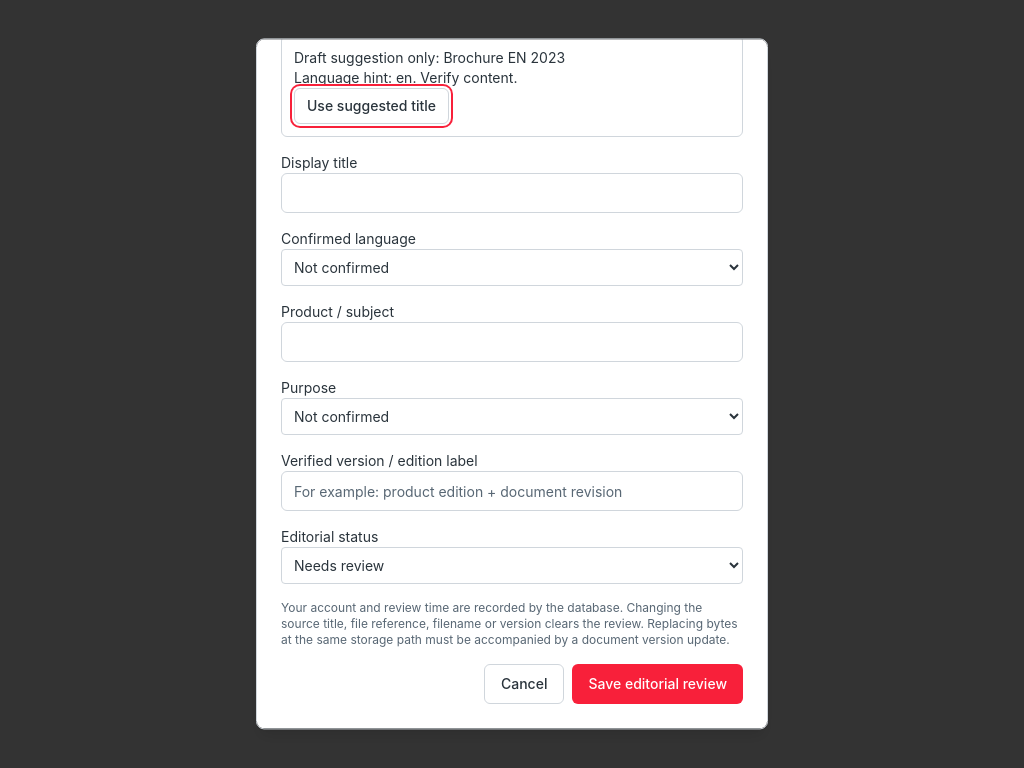
Test: HQ editorial review dialog › keeps failed saves open with an error
(page scrolled)
Click the button "Save editorial review": click(658, 684) [572,664,743,704]
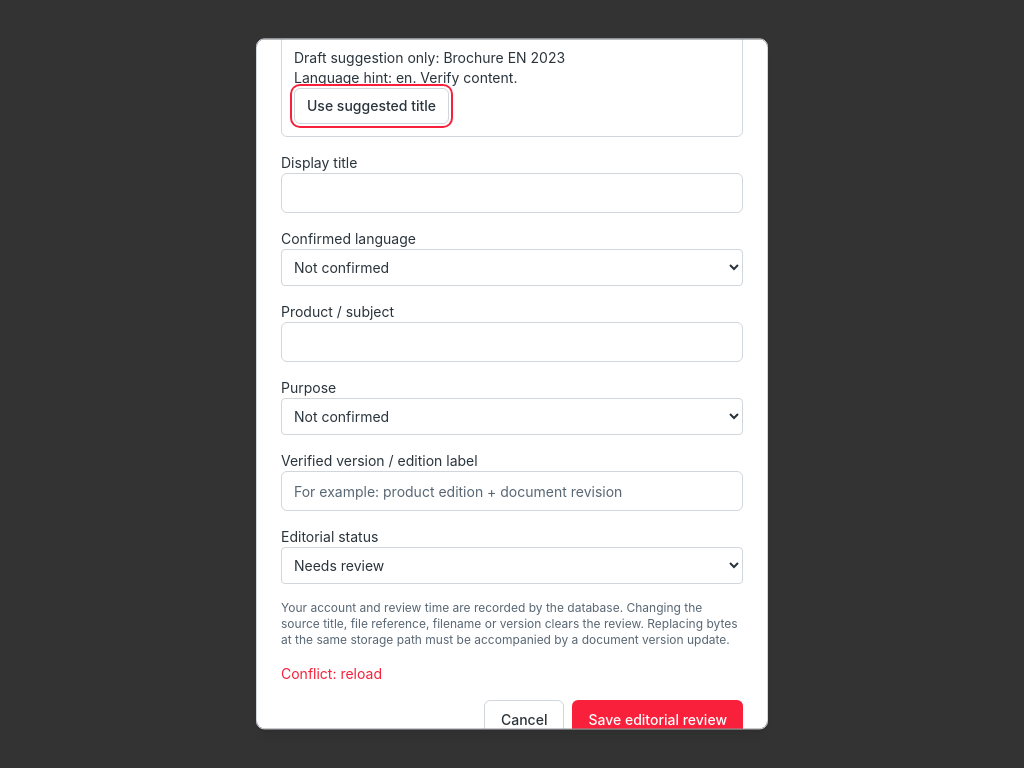
Check: the message reads "Conflict: reload", box [281,665,382,682]
